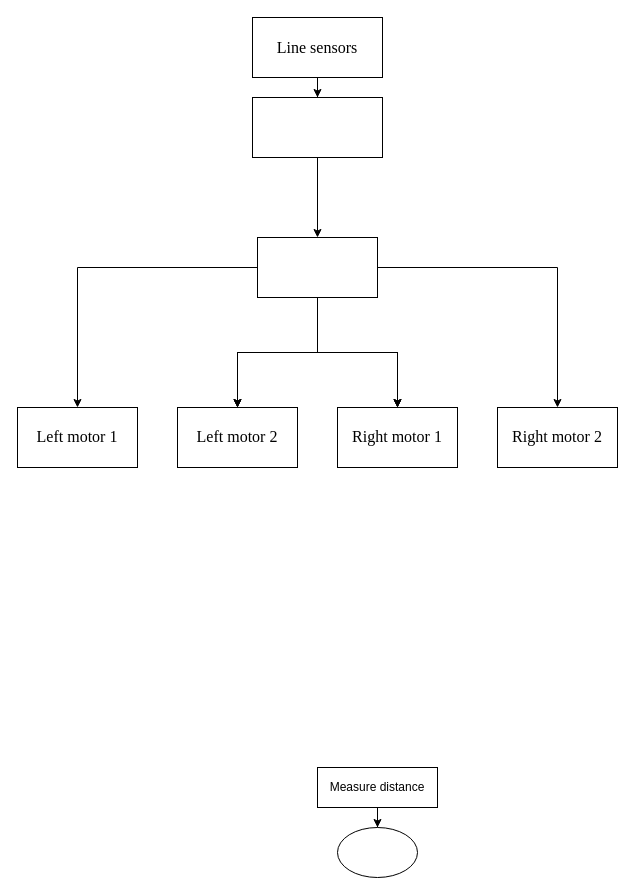
Some shapes in this 635 by 895 pixel diagram are drawn without their labels. The box of each missing label's shape, as (x1, y1, x2, y2) in pixels:
Amplifier circuit: (256, 236, 378, 298)
End: (336, 826, 418, 878)
Microcontroller: (252, 96, 382, 158)
